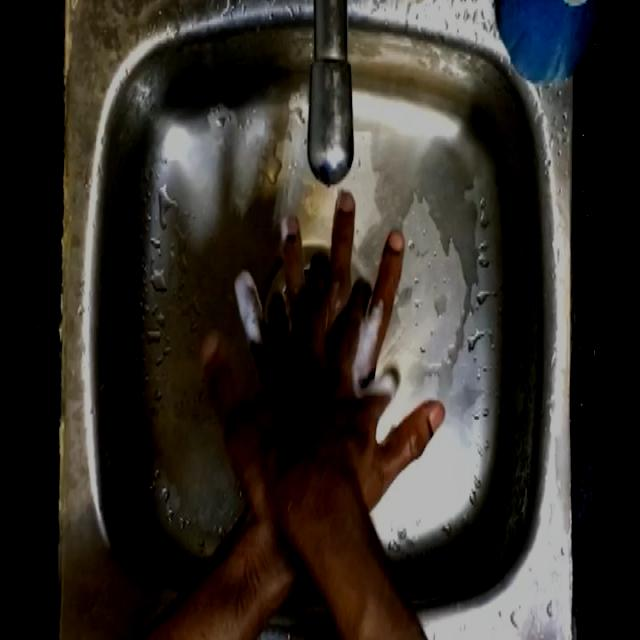step_2: (192, 182, 444, 510)
